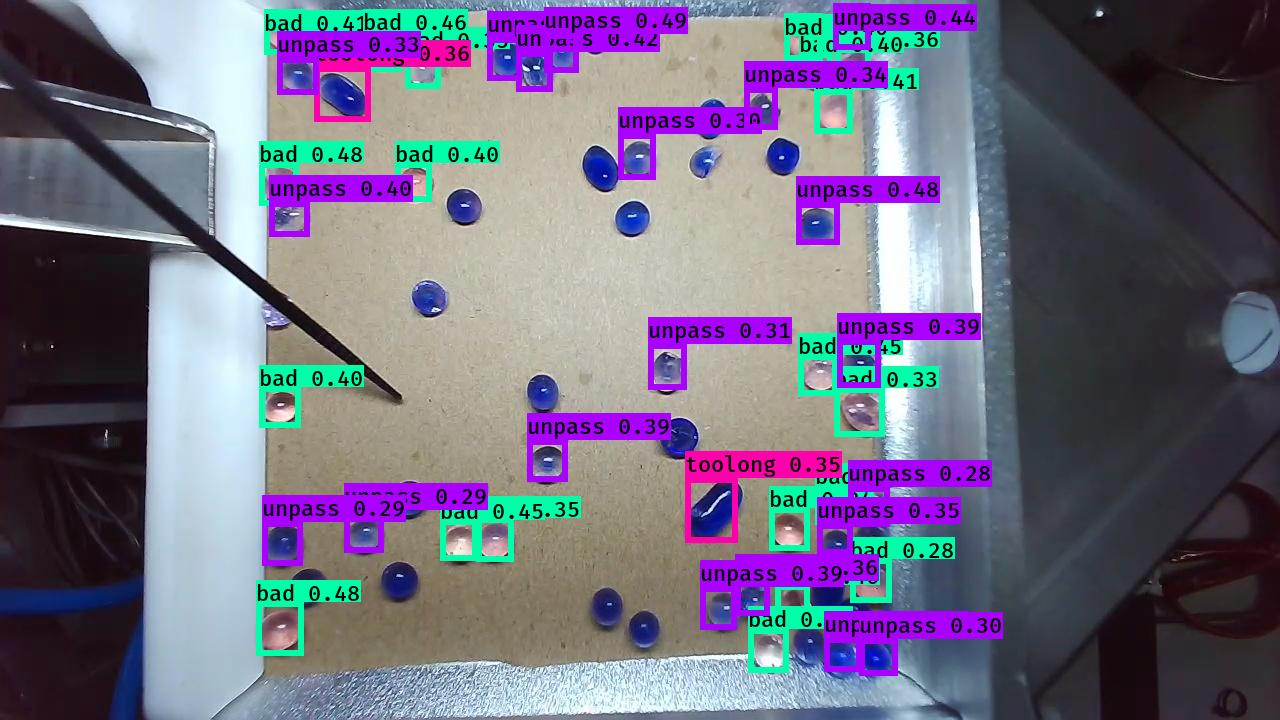bad: (835, 389, 886, 437), (256, 606, 304, 655), (784, 15, 829, 62), (266, 9, 310, 55), (815, 92, 859, 135), (261, 163, 304, 204), (747, 631, 788, 672), (773, 586, 814, 627), (767, 510, 809, 549), (397, 166, 436, 206), (475, 521, 513, 562), (832, 52, 873, 89), (362, 33, 401, 71), (854, 566, 891, 606), (442, 524, 481, 561), (264, 392, 301, 428), (801, 358, 837, 395), (818, 489, 852, 526), (802, 53, 835, 91), (404, 53, 438, 88)
defact: (687, 143, 727, 181)
pass: (578, 144, 621, 195), (658, 413, 700, 464), (444, 187, 488, 229), (377, 558, 418, 603), (284, 567, 326, 610), (610, 199, 652, 242), (388, 479, 433, 519), (523, 373, 563, 417), (690, 94, 729, 138), (586, 586, 624, 630), (763, 135, 801, 178), (412, 277, 452, 317), (625, 608, 662, 651), (853, 526, 891, 567), (578, 16, 612, 54), (837, 597, 869, 629)
toolong: (683, 478, 745, 544), (315, 72, 371, 122), (807, 561, 847, 623)
unpass: (794, 201, 844, 246), (260, 525, 308, 570), (832, 1, 875, 51), (820, 631, 862, 678), (525, 443, 567, 490), (836, 344, 880, 387), (274, 53, 317, 95), (257, 291, 301, 332), (649, 348, 688, 394), (269, 201, 314, 240), (851, 488, 890, 531), (619, 137, 658, 180), (343, 515, 385, 554), (737, 577, 774, 619), (703, 590, 740, 631), (858, 639, 897, 676), (519, 54, 556, 92), (547, 34, 582, 73), (747, 89, 780, 130), (489, 41, 524, 79), (512, 22, 547, 58), (819, 528, 854, 563)
